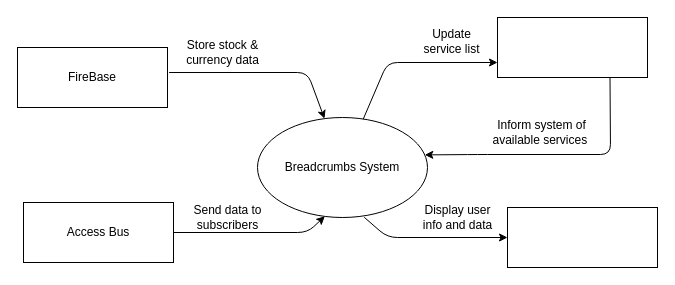
Image size: 675x285. Some labels were removed from this diagram. The shapes that lost their labels are listed below. From the top down, each one's centre as x and y in pixels, then its label:
the point at 572,47: Service Registry
the point at 582,237: Front End
